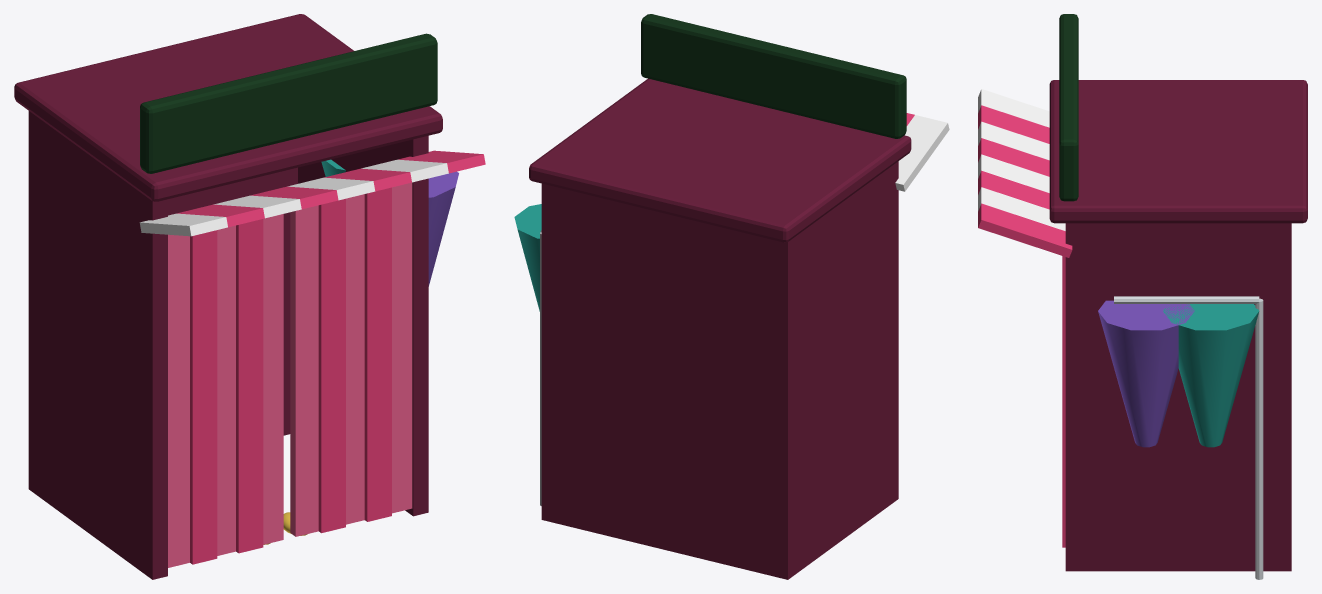
The model's file is foot_booth.glb.
The picture shows the model from 3 angles, left to right: view 1: azimuth 30°, elevation 25°; view 2: azimuth 150°, elevation 25°; view 3: azimuth 270°, elevation 25°; orthographic projection. The views are drawn at different scales.
Visible parts, largest first — view 1: FootBooth_body; view 2: FootBooth_body; view 3: FootBooth_body.
Part boxes in pixels (bbox=[...]): FootBooth_body: bbox=[14, 14, 485, 579]; FootBooth_body: bbox=[514, 14, 949, 579]; FootBooth_body: bbox=[978, 14, 1307, 579].
Bounding box in the file's own units: 2.3 × 2.96 × 2.04.
